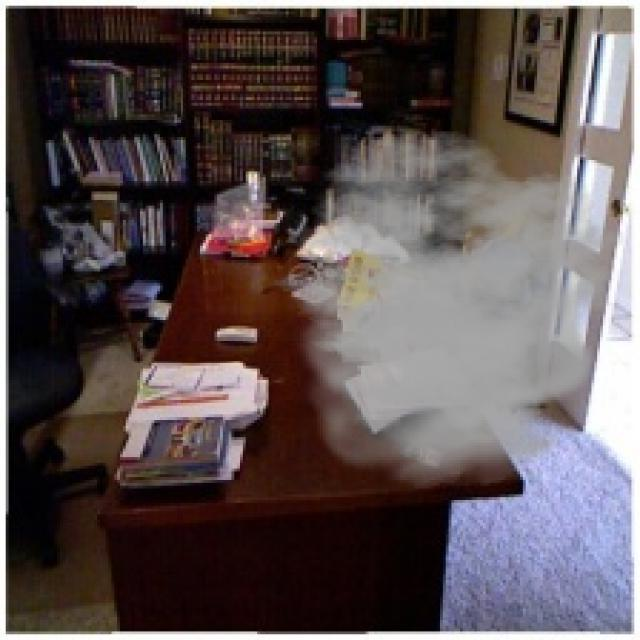Smoke: (254, 128, 626, 488)
